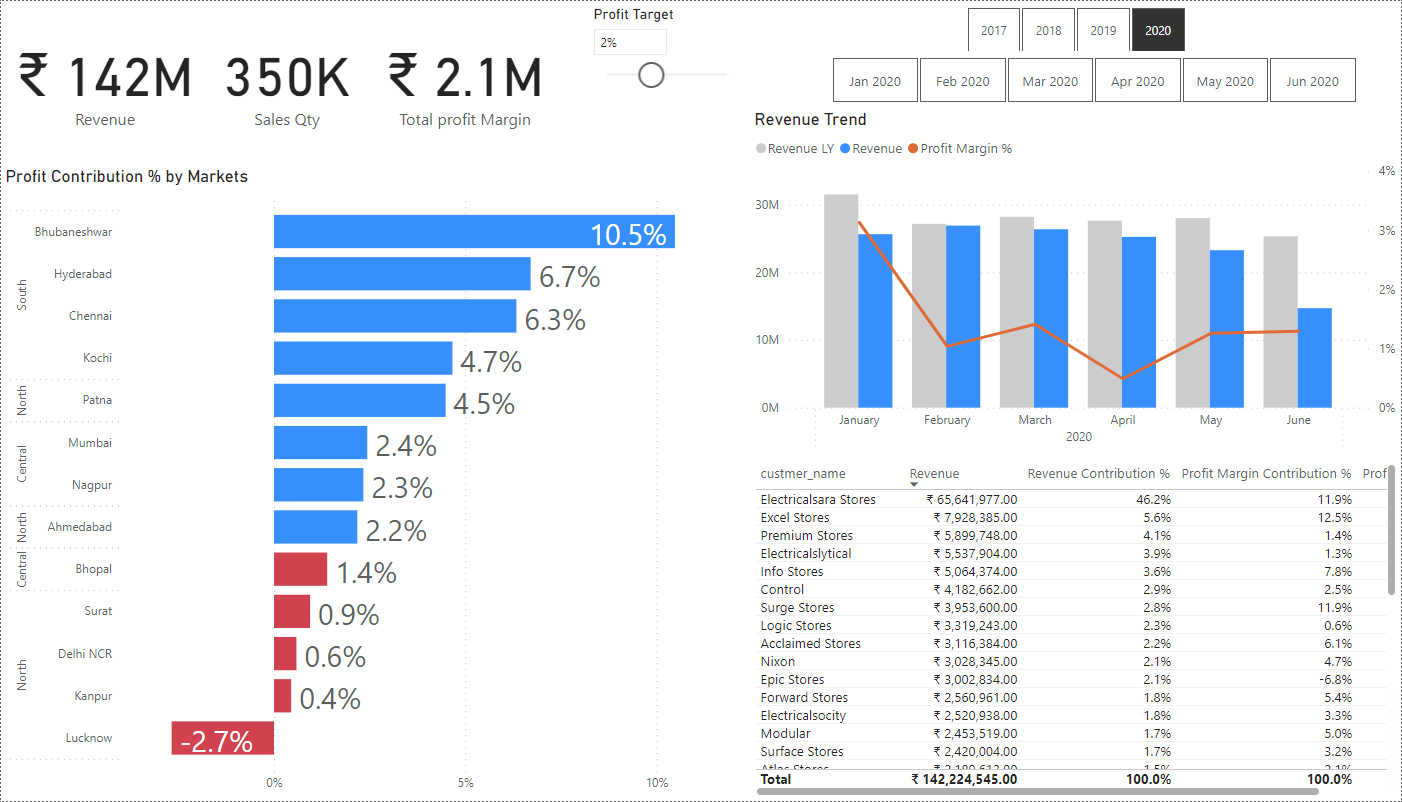

What the dashboard file says about the page in this screenshot:
{"tool":"powerbi","page":{"name":"Performance Insights","canvas":[1400,800],"ordinal":2},"visuals":[{"type":"card","fields":{"Values":["BaseMeasures.Revenue"]},"box":[0,0,176,158],"z":0},{"type":"card","fields":{"Values":["BaseMeasures.Sales Qty"]},"box":[176,0,156,158],"z":1000},{"type":"slicer","fields":{"Values":["sales date.year"]},"box":[941,0,267,58],"z":4000},{"type":"slicer","fields":{"Values":["sales date.cy_date"]},"box":[806,50,573,58],"z":5000},{"type":"tableEx","fields":{"Values":["sales customers.custmer_name","BaseMeasures.Revenue","BaseMeasures.Revenue Contribution %","BaseMeasures.Profit Margin Contribution %","BaseMeasures.Profit Margin %"]},"box":[749,458,651,342],"z":6000},{"type":"lineClusteredColumnComboChart","title":"Revenue Trend","fields":{"Category":["sales date.cy_date.Variation.Date Hierarchy.Year","sales date.cy_date.Variation.Date Hierarchy.Month"],"Y":["BaseMeasures.Revenue LY","BaseMeasures.Revenue"],"Y2":["BaseMeasures.Profit Margin %"]},"box":[749,108,651,350],"z":7000},{"type":"card","fields":{"Values":["BaseMeasures.Total profit Margin"]},"box":[332,0,232,158],"z":8000},{"type":"barChart","title":"Revenue Contribution % by Markets","fields":{"Category":["sales markets.zone","sales markets.markets_name","sales customers.custmer_name"],"Y":["BaseMeasures.Profit Margin %"]},"box":[0,165,749,635],"z":9000},{"type":"slicer","fields":{"Values":["Profit Target.Profit Target"]},"box":[564,0,185,158],"z":9001}]}

Visuals, with their boxes in screenshot pixels (x1, y1, x2, y2), scaled from the page's 1400x800 canvas onto the 1402x802 screenshot:
card - BaseMeasures.Revenue: <region>0, 0, 176, 158</region>
card - BaseMeasures.Sales Qty: <region>176, 0, 332, 158</region>
slicer - sales date.year: <region>942, 0, 1210, 58</region>
slicer - sales date.cy_date: <region>807, 50, 1381, 108</region>
tableEx - sales customers.custmer_name x BaseMeasures.Revenue: <region>750, 459, 1401, 801</region>
"Revenue Trend" lineClusteredColumnComboChart: <region>750, 108, 1401, 459</region>
card - BaseMeasures.Total profit Margin: <region>332, 0, 565, 158</region>
"Revenue Contribution % by Markets" barChart: <region>0, 165, 750, 801</region>
slicer - Profit Target.Profit Target: <region>565, 0, 750, 158</region>
